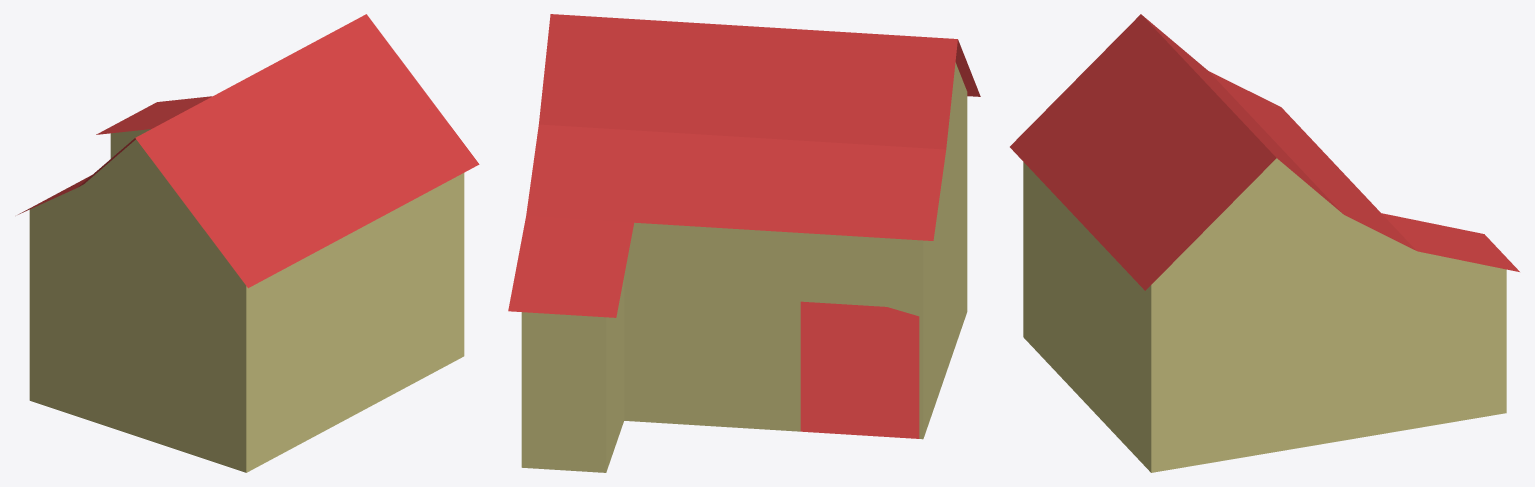
3 renders of one model, left to right at view 1: azimuth 30°, elevation 25°; view 2: azimuth 150°, elevation 25°; view 3: azimuth 270°, elevation 25°, orthographic. The views are drawn at different scales.
Bounding box in the file's own units: 21.14 × 24.04 × 15.5.
